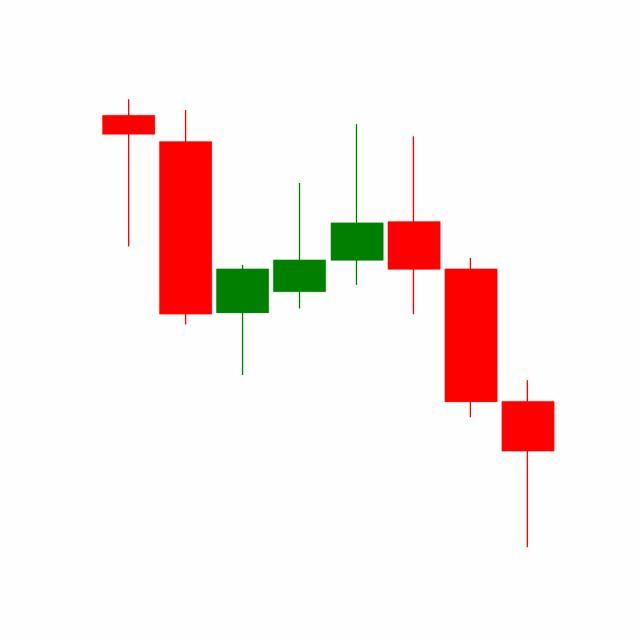Three Outside Up-Down: (328, 121, 500, 422)
